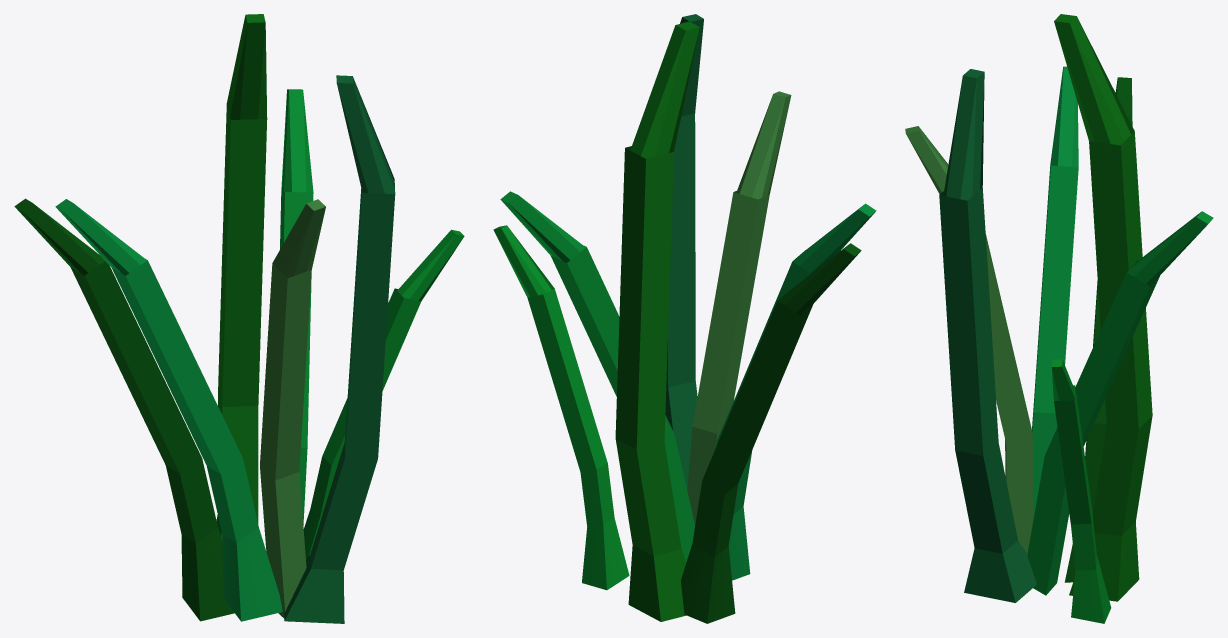
File: grama pequena.fbx
3 renders of one model, left to right at view 1: azimuth 30°, elevation 25°; view 2: azimuth 150°, elevation 25°; view 3: azimuth 270°, elevation 25°, orthographic. The views are drawn at different scales.
Parts seen in each view (by area): view 1: Cubo.001, Cubo, Cubo.002, Cubo.005, Cubo.004, Cubo.006, Cubo.003; view 2: Cubo, Cubo.005, Cubo.004, Cubo.006, Cubo.001, Cubo.003, Cubo.002; view 3: Cubo.001, Cubo, Cubo.003, Cubo.002, Cubo.004, Cubo.006, Cubo.005.
Boxes of the visible parts, left/top/right/bottom form: Cubo.001: left=284, top=75, right=395, bottom=623; Cubo: left=216, top=14, right=267, bottom=541; Cubo.002: left=55, top=199, right=282, bottom=621; Cubo.005: left=14, top=198, right=234, bottom=621; Cubo.004: left=260, top=199, right=325, bottom=618; Cubo.006: left=303, top=229, right=464, bottom=559; Cubo.003: left=280, top=89, right=313, bottom=525; Cubo: left=615, top=21, right=699, bottom=621; Cubo.005: left=681, top=243, right=861, bottom=623; Cubo.004: left=687, top=91, right=791, bottom=524; Cubo.006: left=493, top=225, right=629, bottom=590; Cubo.001: left=665, top=14, right=703, bottom=489; Cubo.003: left=500, top=191, right=695, bottom=561; Cubo.002: left=716, top=203, right=876, bottom=580; Cubo.001: left=939, top=69, right=1036, bottom=602; Cubo: left=1054, top=14, right=1152, bottom=601; Cubo.003: left=1027, top=211, right=1213, bottom=595; Cubo.002: left=1032, top=66, right=1078, bottom=517; Cubo.004: left=905, top=126, right=1033, bottom=553; Cubo.006: left=1051, top=359, right=1111, bottom=623; Cubo.005: left=1064, top=77, right=1132, bottom=582.
Bounding box in the file's own units: 38.26 × 52.93 × 25.83.
